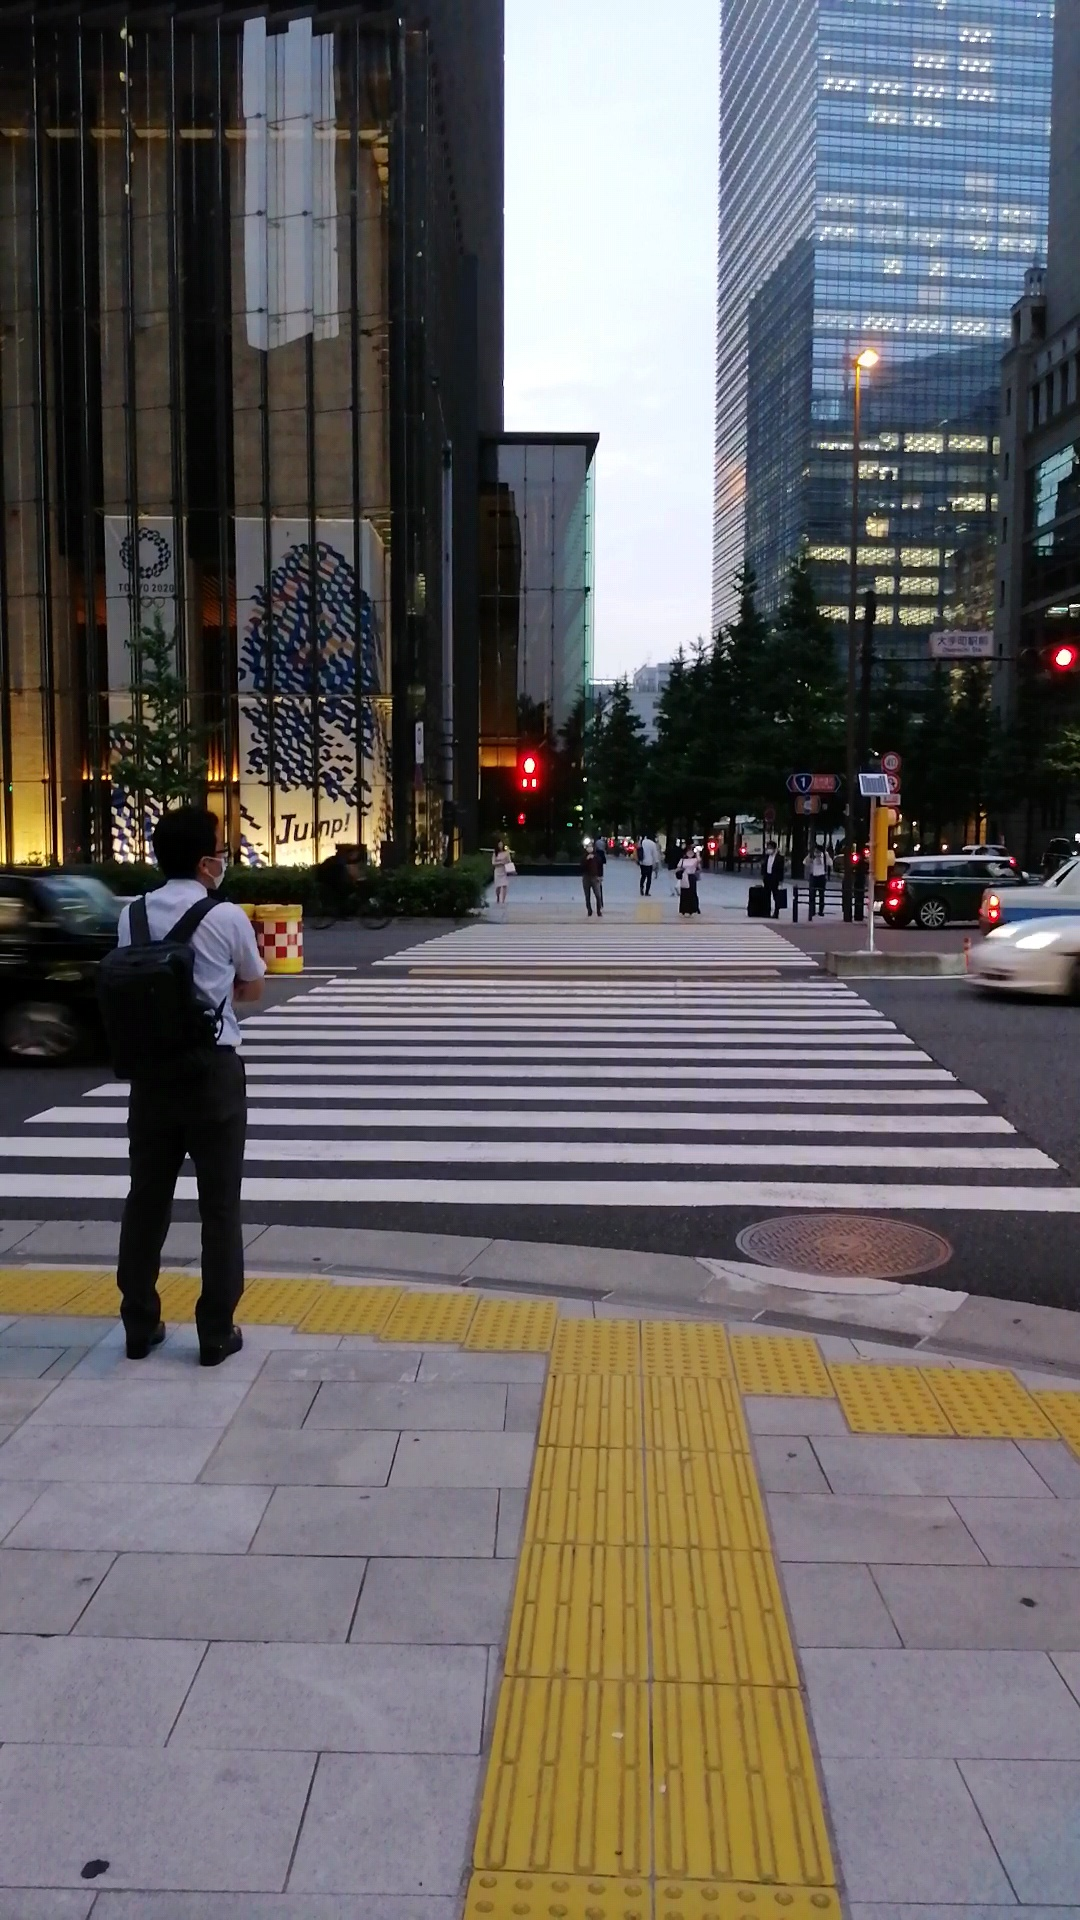red: (516, 748, 545, 794)
